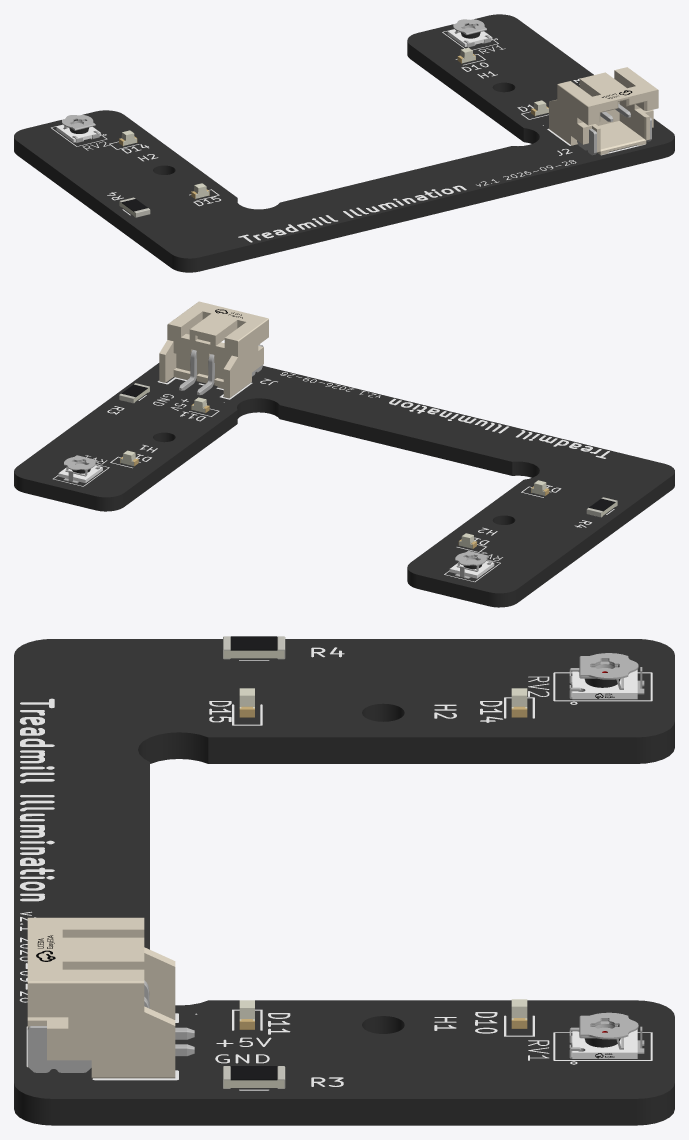
Rendered from Treadmill-Illumination-v2-0603-v2.1.glb.
The picture shows the model from 3 angles, top to bottom: view 1: azimuth 30°, elevation 25°; view 2: azimuth 150°, elevation 25°; view 3: azimuth 270°, elevation 25°; orthographic projection. The views are drawn at different scales.
Parts seen in each view (by area): view 1: =>[0:1:1:12], =>[0:1:1:9], =>[0:1:1:10], =>[0:1:1:7] (×2), =>[0:1:1:3]; view 2: =>[0:1:1:12], =>[0:1:1:9], =>[0:1:1:10], =>[0:1:1:7] (×2); view 3: =>[0:1:1:12], =>[0:1:1:9], =>[0:1:1:10], =>[0:1:1:7] (×2), =>[0:1:1:3] (×2).
Boxes of the visible parts, x1=… form: =>[0:1:1:12]: x1=14, y1=14, x2=674, y2=272; =>[0:1:1:9]: x1=549, y1=67, x2=658, y2=155; =>[0:1:1:10]: x1=51, y1=29, x2=645, y2=242; =>[0:1:1:7] (×2): x1=56, y1=19, x2=492, y2=143; =>[0:1:1:3]: x1=119, y1=197, x2=150, y2=217; =>[0:1:1:12]: x1=14, y1=363, x2=674, y2=607; =>[0:1:1:9]: x1=159, y1=301, x2=268, y2=398; =>[0:1:1:10]: x1=53, y1=372, x2=614, y2=581; =>[0:1:1:7] (×2): x1=58, y1=455, x2=494, y2=578; =>[0:1:1:12]: x1=14, y1=639, x2=674, y2=1125; =>[0:1:1:9]: x1=27, y1=917, x2=194, y2=1078; =>[0:1:1:10]: x1=19, y1=647, x2=652, y2=1090; =>[0:1:1:7] (×2): x1=569, y1=653, x2=644, y2=1058; =>[0:1:1:3] (×2): x1=223, y1=636, x2=285, y2=1088.
Bounding box in the file's own units: 0.056 × 0.00717 × 0.034.
